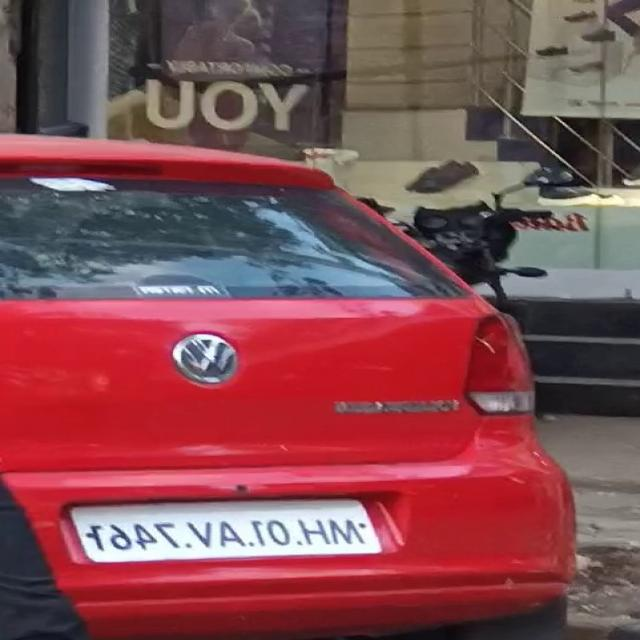license_plate: (44, 490, 404, 580)
